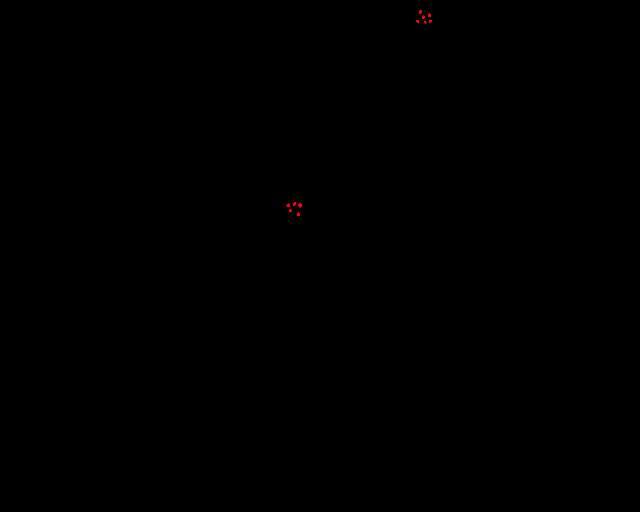Target: (298, 203, 302, 208), (286, 203, 290, 207), (419, 10, 422, 14), (428, 13, 431, 17), (422, 15, 425, 19), (293, 202, 296, 206), (297, 212, 300, 216), (416, 20, 419, 23), (429, 20, 432, 23), (424, 21, 427, 24), (289, 209, 292, 212)
